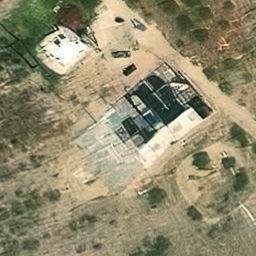manzanas: (93, 60, 219, 175)
